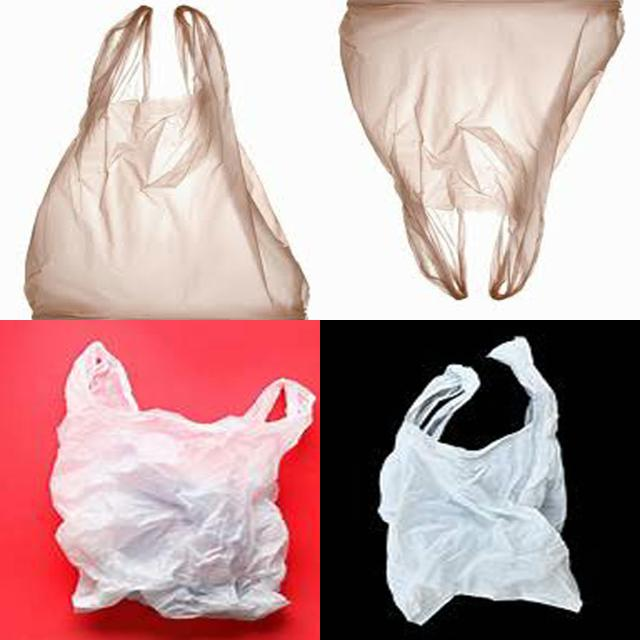Single-layer Plastic: (25, 6, 308, 319), (341, 0, 623, 300), (50, 342, 314, 620), (378, 336, 581, 625)
